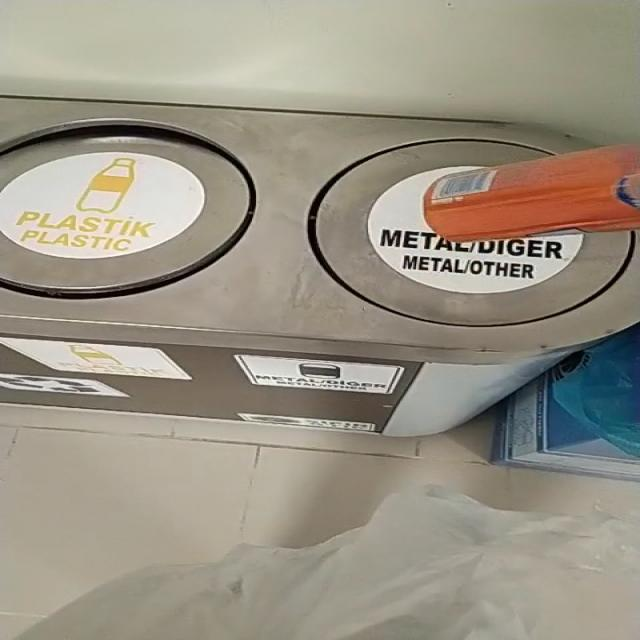Bin: (1, 99, 637, 371)
Metal: (424, 146, 640, 242)
